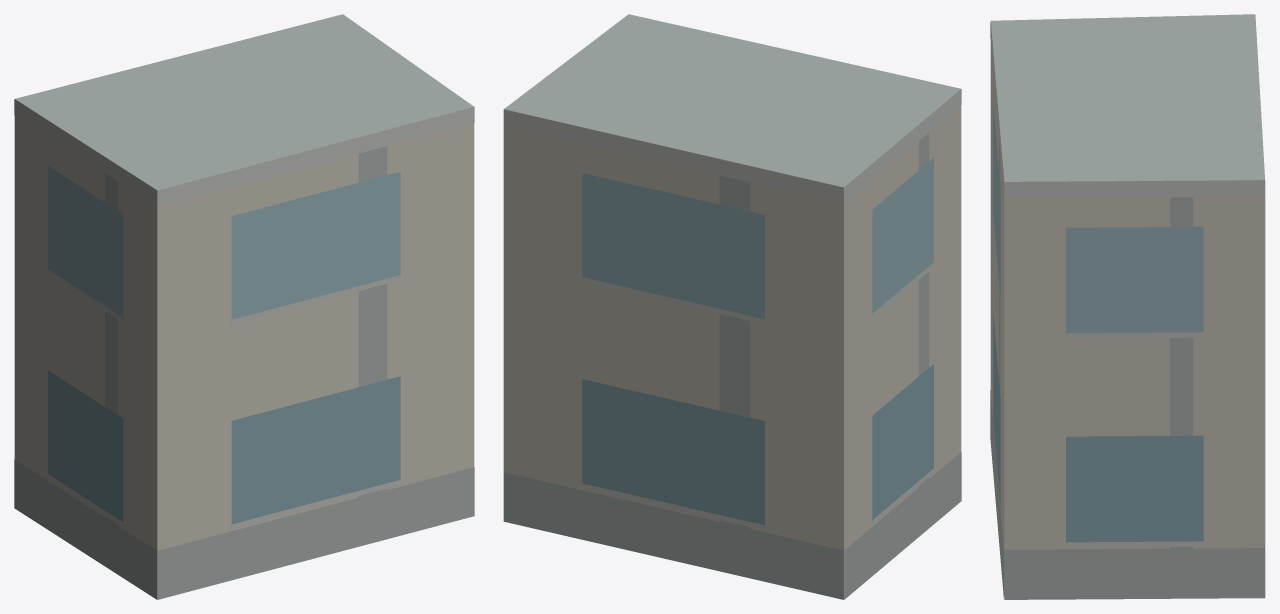
File: survey-upis-32730869.glb
The picture shows the model from 3 angles, left to right: view 1: azimuth 30°, elevation 25°; view 2: azimuth 150°, elevation 25°; view 3: azimuth 270°, elevation 25°; orthographic projection. The views are drawn at different scales.
Parts seen in each view (by area): view 1: survey-upis-32730869.tmp; view 2: survey-upis-32730869.tmp; view 3: survey-upis-32730869.tmp.
Boxes of the visible parts, x1,y1,x2,y2 form: survey-upis-32730869.tmp: [14, 14, 474, 599]; survey-upis-32730869.tmp: [503, 14, 961, 599]; survey-upis-32730869.tmp: [990, 14, 1265, 599].
Size of the model in its own units: 5.26 by 6.1 by 3.64.
